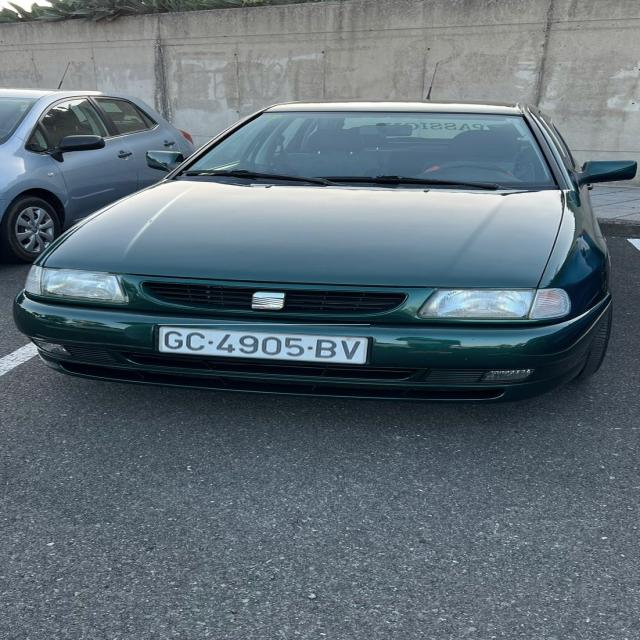License-Plate: (158, 324, 370, 365)
